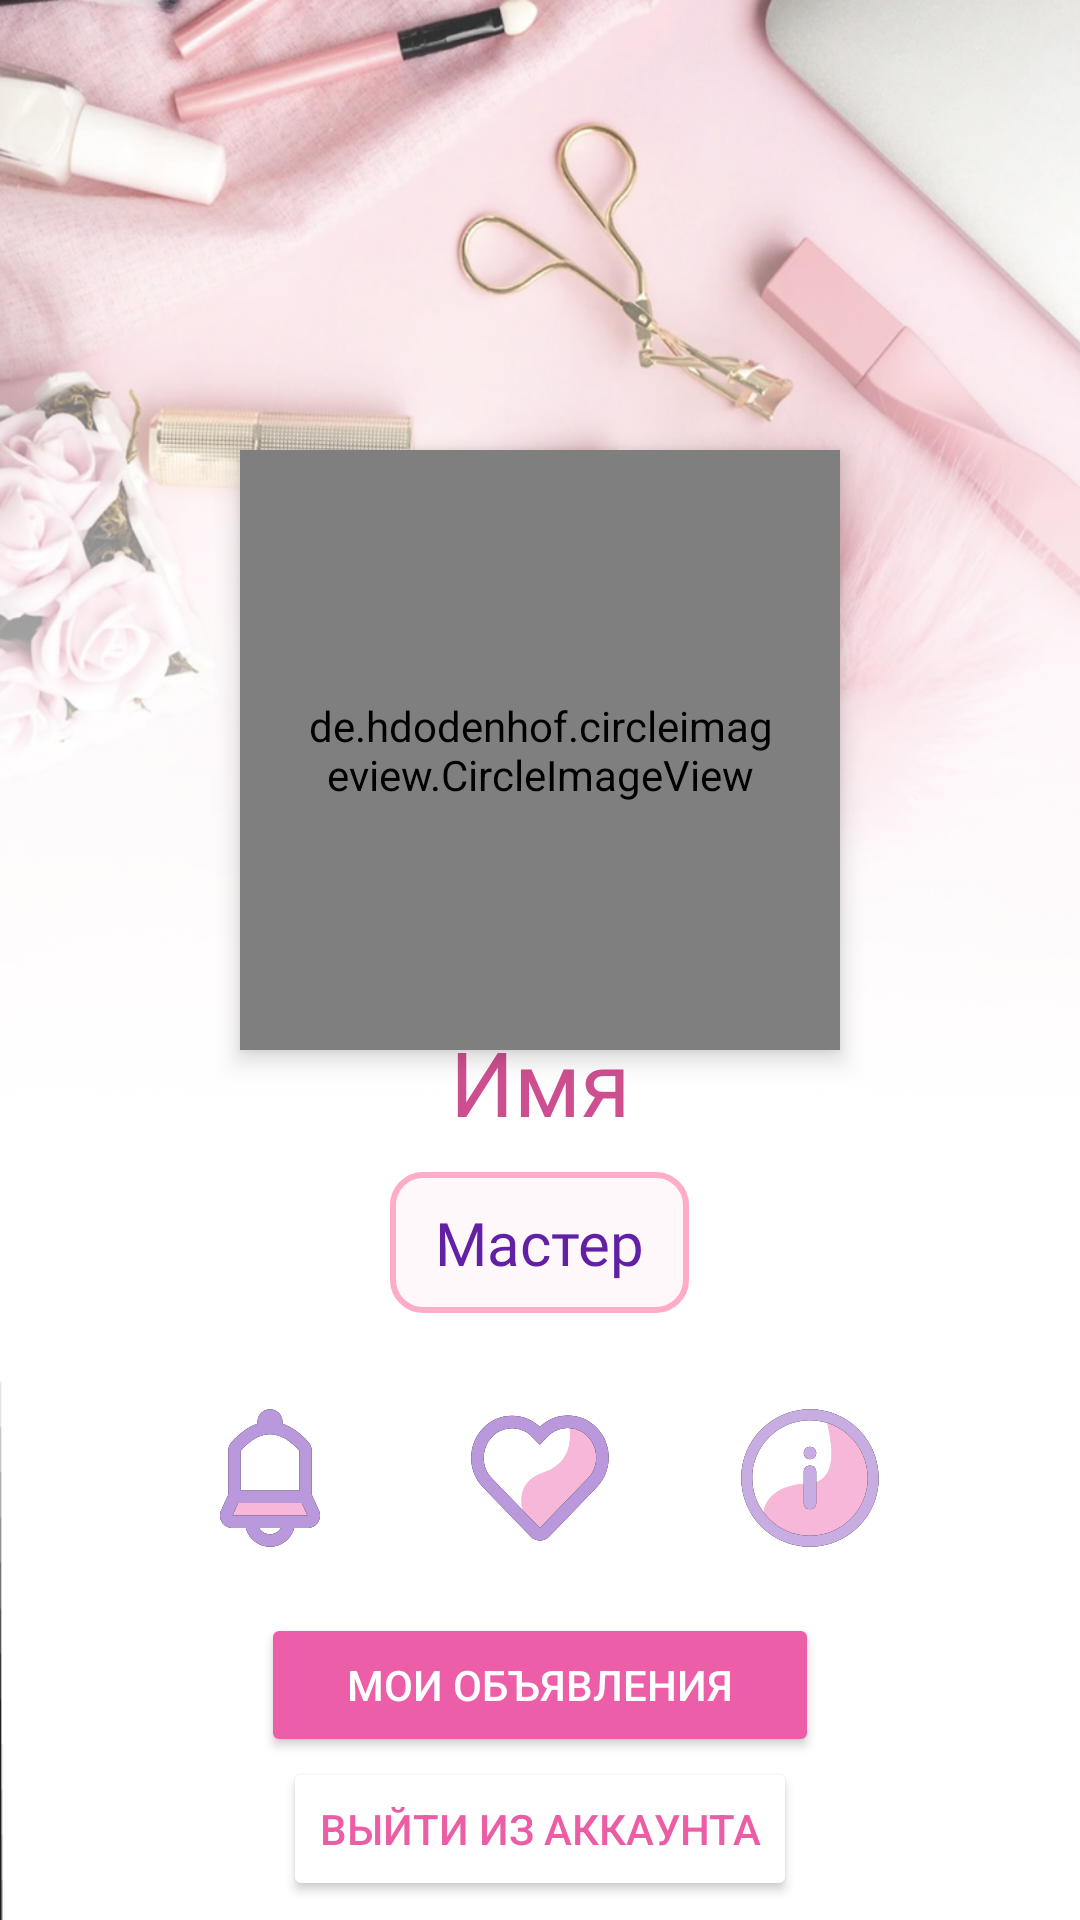

Icon bounding boxes for this 1080px×1920px phone screenshot, format {"left": x1, "top": y1, "right": x2, "bottom": y2}:
bell: {"left": 220, "top": 1409, "right": 320, "bottom": 1547}
heart: {"left": 471, "top": 1415, "right": 609, "bottom": 1541}
info: {"left": 741, "top": 1409, "right": 879, "bottom": 1547}
